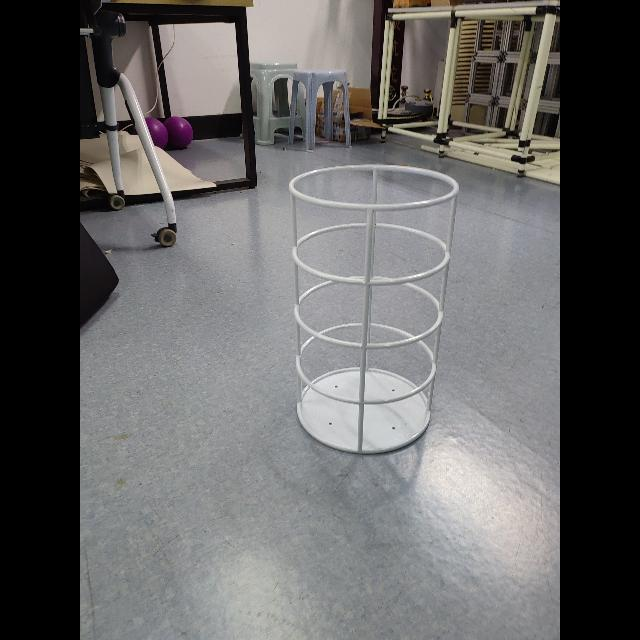S: (287, 162, 463, 458)
